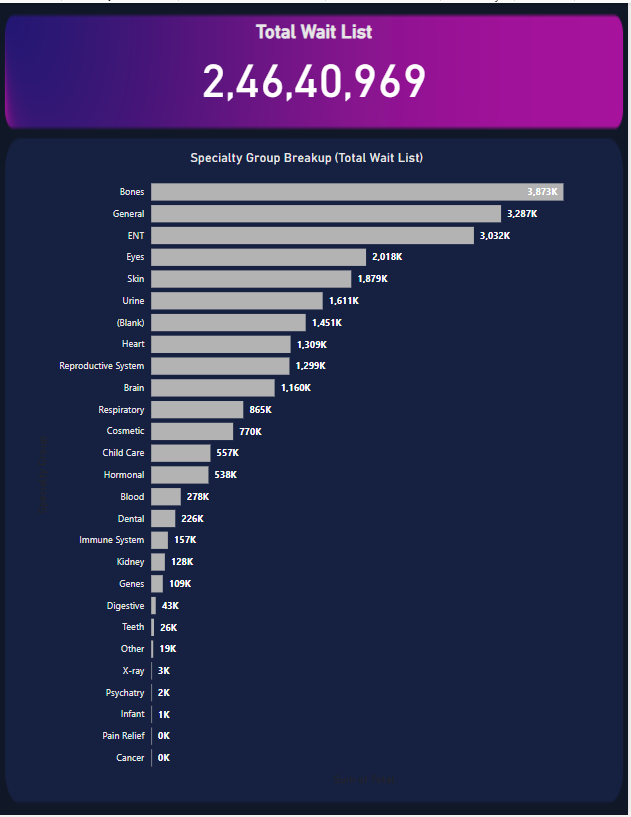

This screenshot's page, from the dashboard's own definition file:
{"tool":"powerbi","page":{"name":"DrillDown","canvas":[816,1056],"ordinal":2},"visuals":[{"type":"barChart","title":"Specialty Group Breakup (Total Wait List)","fields":{"Category":["Mapping_Specialty.Specialty Group"],"Y":["Sum(All_Data.Total)"]},"box":[42,191,713.8,831.4],"z":0},{"type":"card","title":"Total Wait List","fields":{"Values":["Sum(All_Data.Total)"]},"box":[60.9,23.1,694.9,111.3],"z":1001}]}

Visuals, with their boxes in screenshot pixels (x1, y1, x2, y2), scaled from the page's 816x1056 canvas onto the 631x817 screenshot:
"Specialty Group Breakup (Total Wait List)" barChart: 32/148/584/791
"Total Wait List" card: 47/18/584/104
